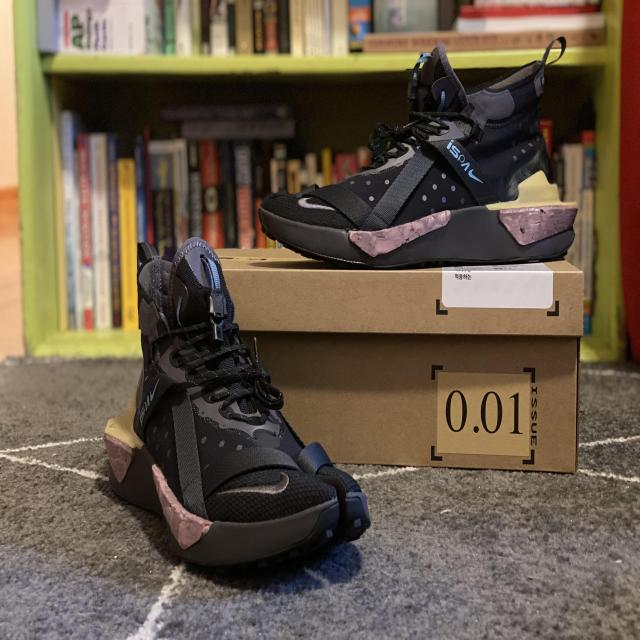shoe: (94, 230, 383, 582), (248, 34, 585, 290)
